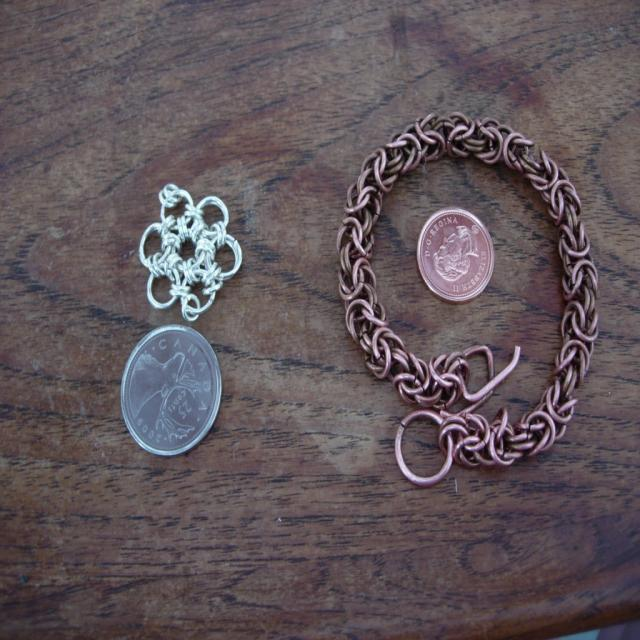Coin: (117, 323, 224, 457), (417, 212, 496, 299)
